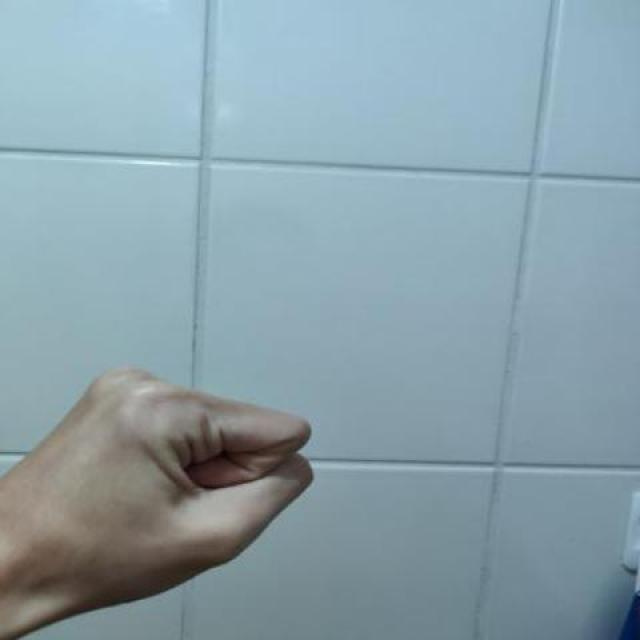fist: (8, 330, 320, 638)
